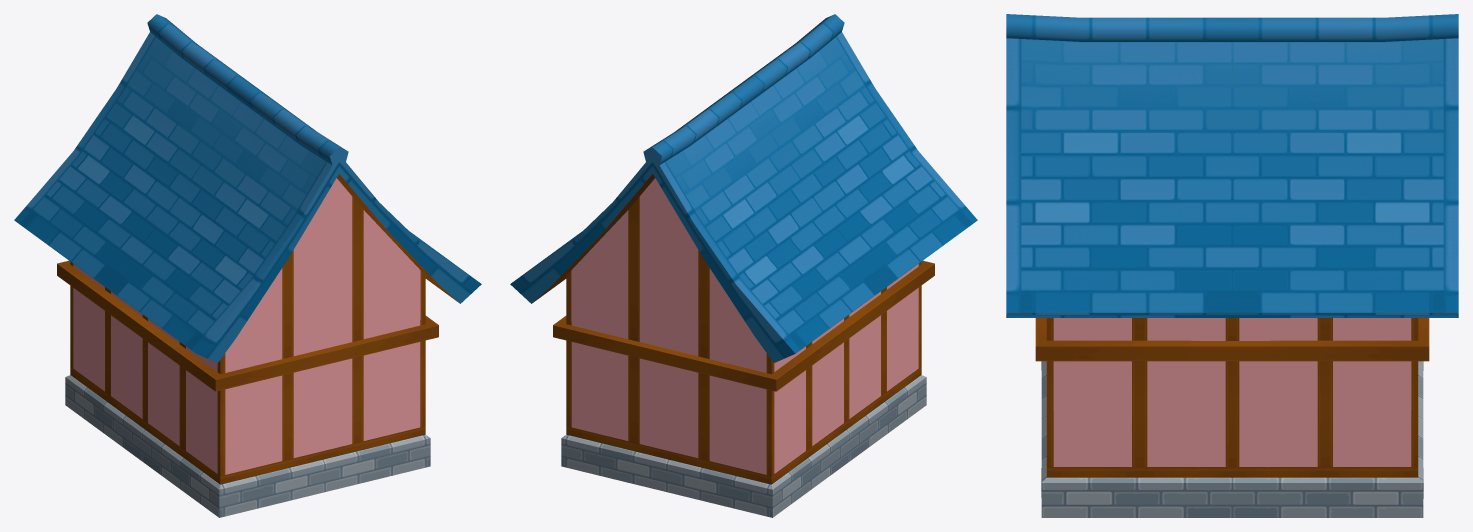
The model's file is HOS0210003.FBX.
3 renders of one model, left to right at view 1: azimuth 30°, elevation 25°; view 2: azimuth 150°, elevation 25°; view 3: azimuth 270°, elevation 25°, orthographic. The views are drawn at different scales.
Parts seen in each view (by area): view 1: smHOS0210003; view 2: smHOS0210003; view 3: smHOS0210003.
Part boxes in pixels (x1,y1,x2,y2): smHOS0210003: [14, 14, 481, 517]; smHOS0210003: [510, 14, 977, 517]; smHOS0210003: [1006, 14, 1458, 517].
Size of the model in its own units: 503 by 597 by 556.
Materials: 1 (1 with a texture image).
